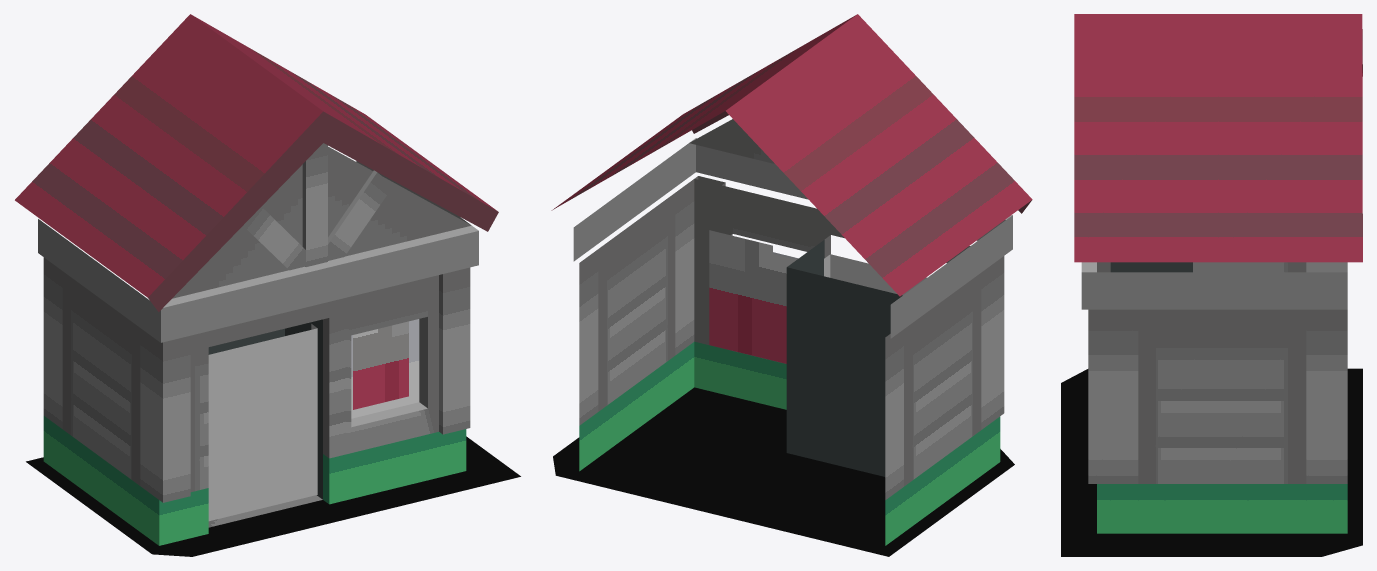
File: house.fbx
3 renders of one model, left to right at view 1: azimuth 30°, elevation 25°; view 2: azimuth 150°, elevation 25°; view 3: azimuth 270°, elevation 25°, orthographic. The views are drawn at different scales.
Parts seen in each view (by area): view 1: polygon0.005, polygon3.004, polygon2.004, polygon1.004; view 2: polygon0.005, polygon2.004, polygon1.004, polygon3.004; view 3: polygon0.005, polygon2.004.
Part boxes in pixels (box(x1,y1,x2,y2)): polygon0.005: box(15, 14, 498, 545); polygon3.004: box(208, 324, 317, 521); polygon2.004: box(26, 436, 520, 556); polygon1.004: box(353, 321, 408, 409); polygon0.005: box(551, 14, 1032, 545); polygon2.004: box(553, 387, 1014, 556); polygon1.004: box(709, 230, 796, 363); polygon3.004: box(824, 254, 926, 295); polygon0.005: box(1074, 14, 1362, 533); polygon2.004: box(1061, 368, 1362, 556).
Bounding box in the file's own units: 4.19 × 4.44 × 2.75.
